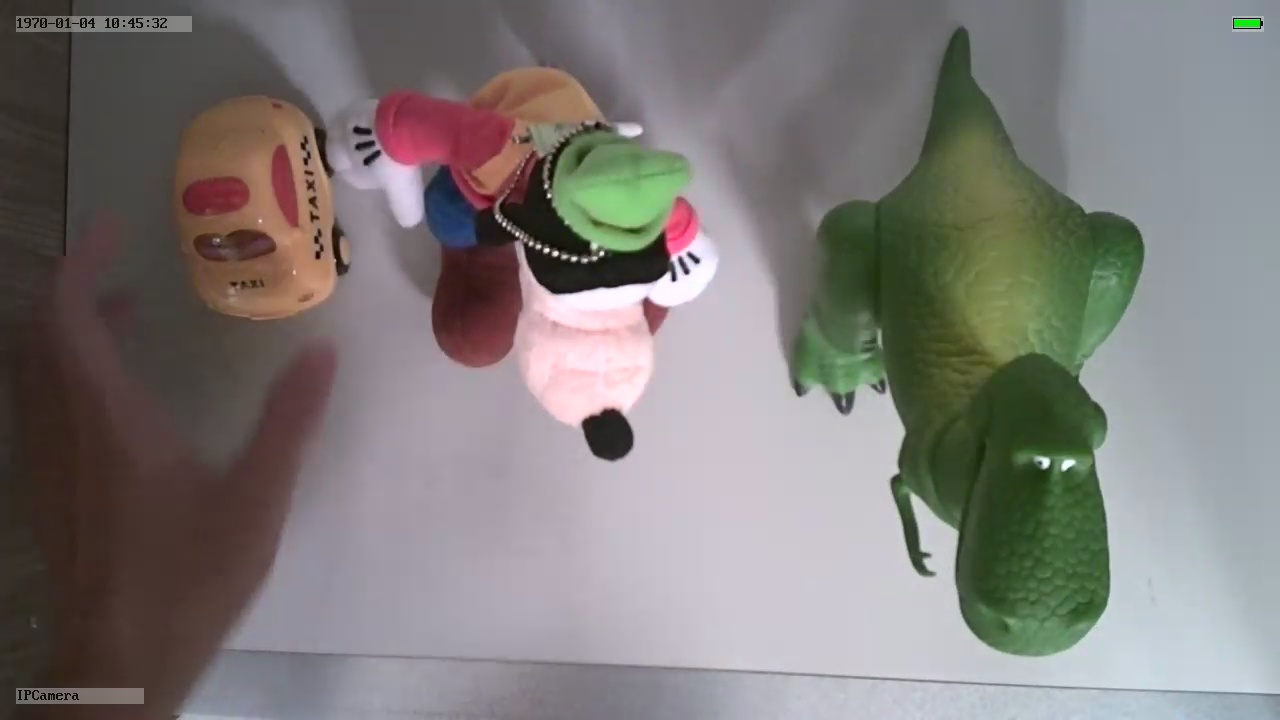goofy: (325, 67, 724, 460)
rex: (792, 123, 1145, 660)
